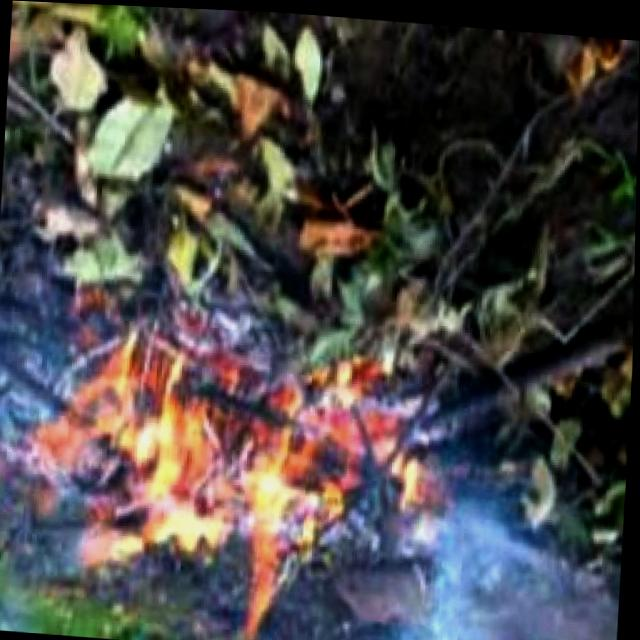helmet: (0, 274, 461, 640)
